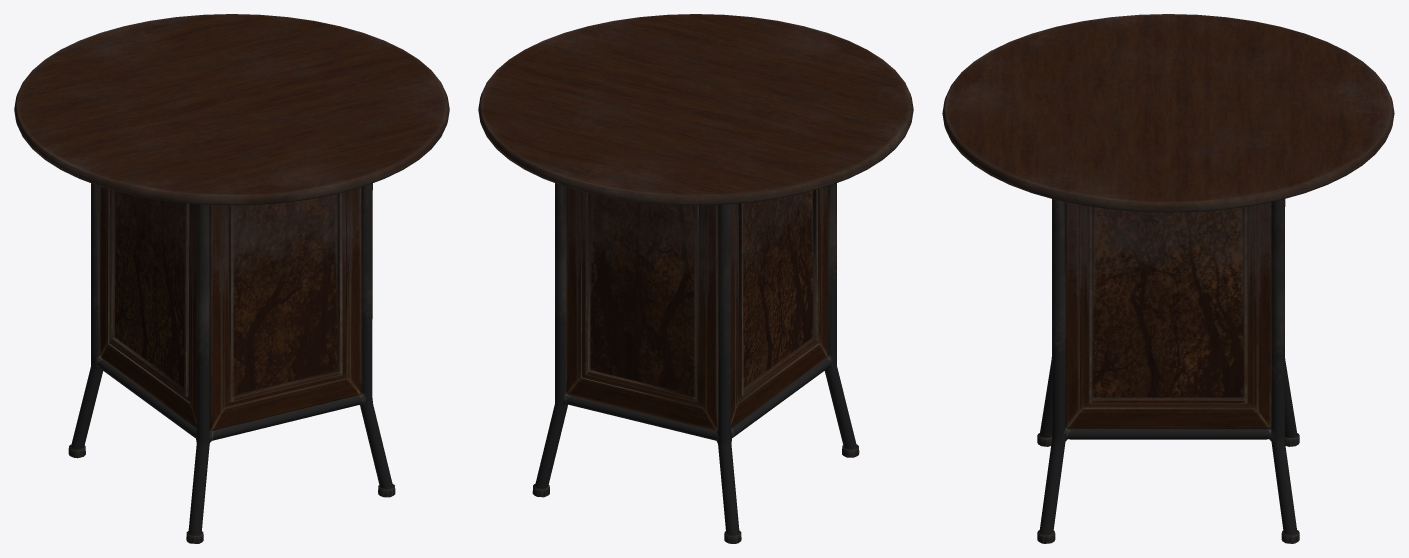
Rendered from round_wooden_table_02_lod1.glb.
3 renders of one model, left to right at view 1: azimuth 30°, elevation 25°; view 2: azimuth 150°, elevation 25°; view 3: azimuth 270°, elevation 25°, orthographic. The views are drawn at different scales.
Visible parts, largest first — view 1: round_wooden_table_02; view 2: round_wooden_table_02; view 3: round_wooden_table_02.
Boxes of the visible parts, x1,y1,x2,y2 form: round_wooden_table_02: (14, 14, 449, 543); round_wooden_table_02: (478, 14, 913, 543); round_wooden_table_02: (942, 14, 1394, 543).
Bounding box in the file's own units: 0.7962 × 0.746 × 0.7962.
Materials: 1 (1 with a texture image).
